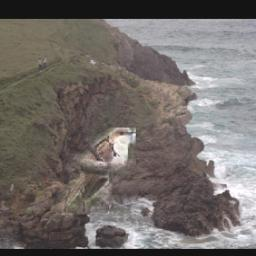Cuckoo: (51, 128, 136, 216)
